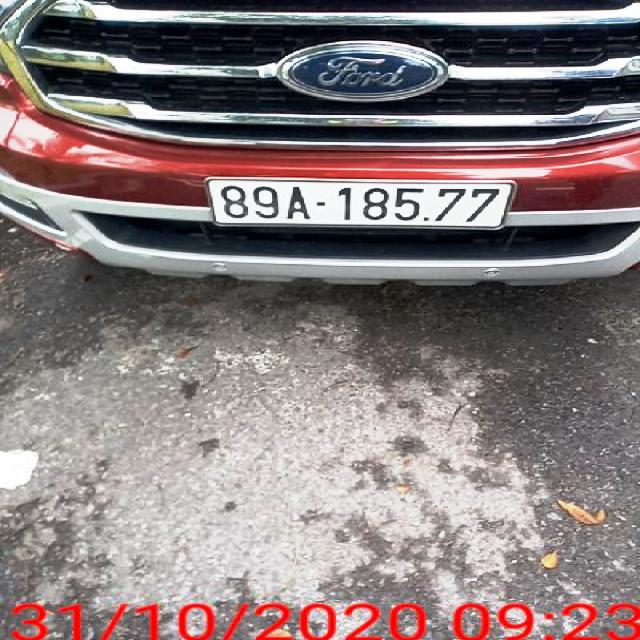license_plate: (209, 179, 512, 230)
